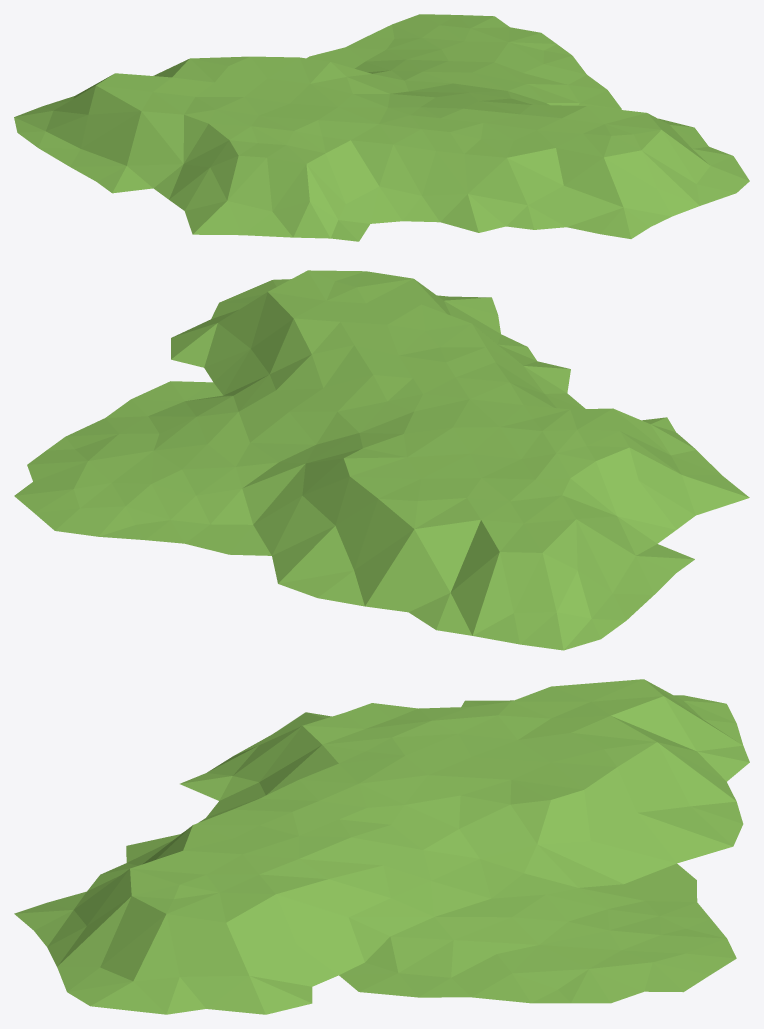
Rendered from MT_Mountain_M_c_11.fbx.
The picture shows the model from 3 angles, top to bottom: view 1: azimuth 30°, elevation 25°; view 2: azimuth 150°, elevation 25°; view 3: azimuth 270°, elevation 25°; orthographic projection. The views are drawn at different scales.
Visible parts, largest first — view 1: MT_Mountain_M_c_11; view 2: MT_Mountain_M_c_11; view 3: MT_Mountain_M_c_11.
Part boxes in pixels (left/top/right/bottom): MT_Mountain_M_c_11: left=14, top=14, right=749, bottom=241; MT_Mountain_M_c_11: left=14, top=270, right=749, bottom=650; MT_Mountain_M_c_11: left=14, top=679, right=749, bottom=1014.
Size of the model in its own units: 4453 by 382 by 4336.
